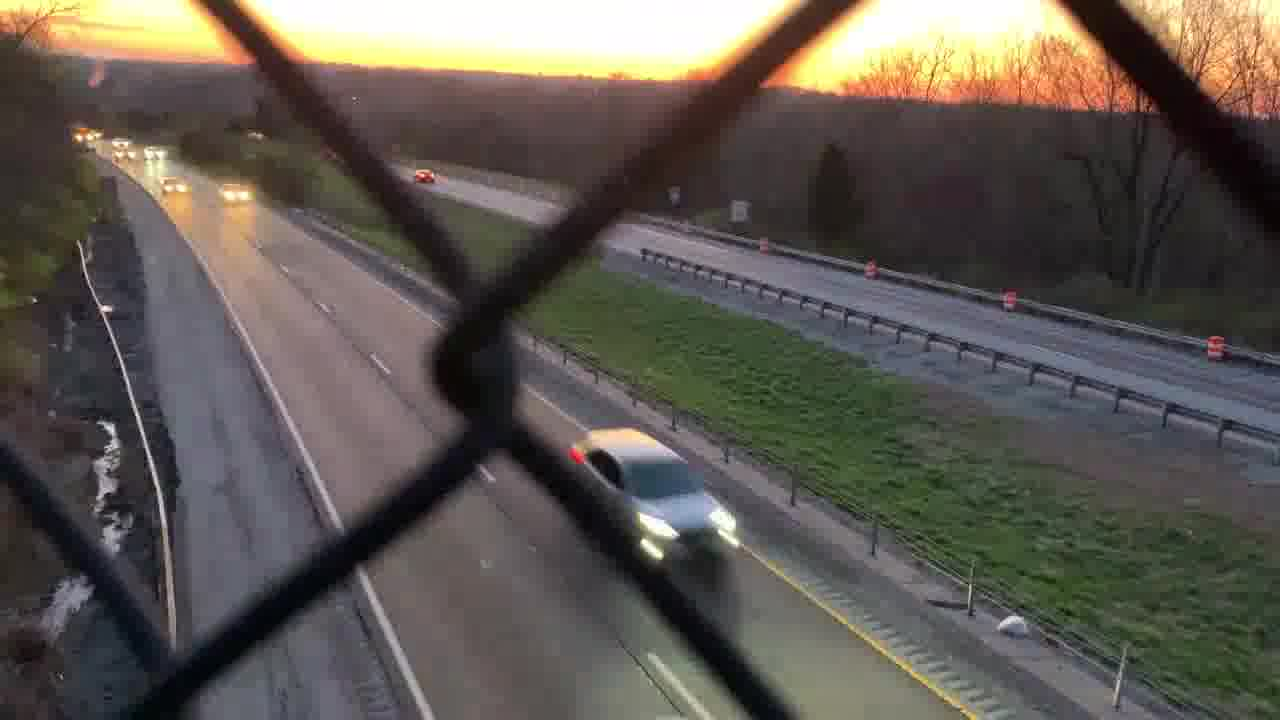largeCar: (566, 422, 741, 565)
